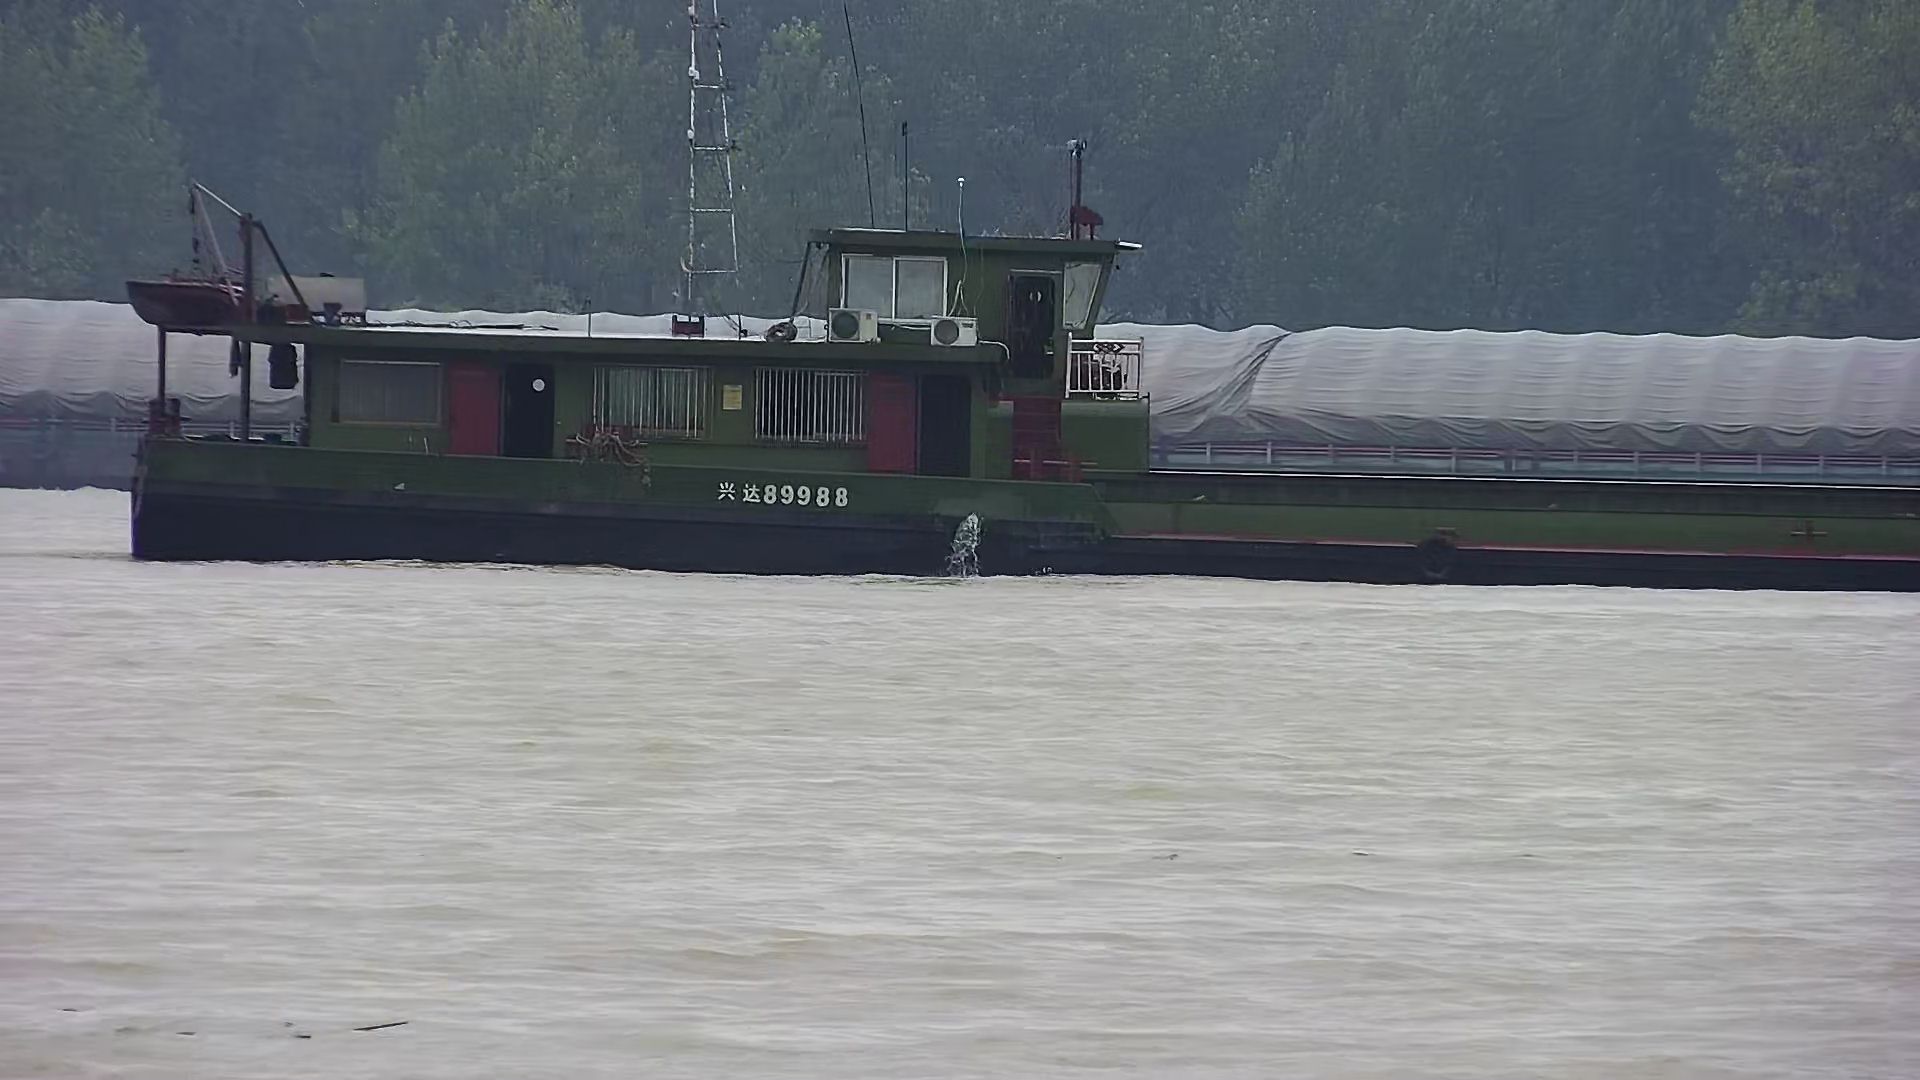ship: (123, 142, 1920, 588), (3, 291, 1920, 512)
